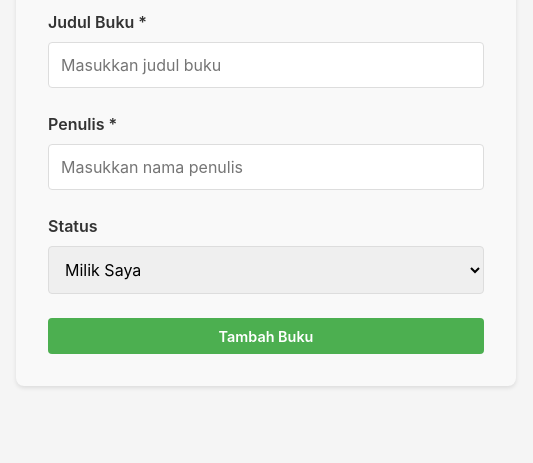
BookForm Component › Clear error message saat user mulai mengetik
The width and height of the screenshot is (533, 463).
Step 1. Click the button "Tambah Buku" → point(266, 336), box [48, 318, 484, 354]
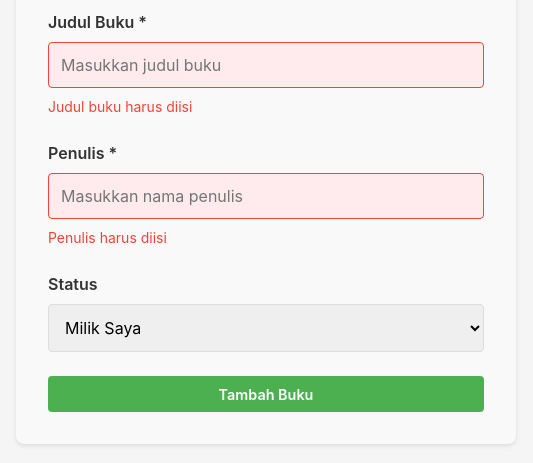
Expected: the text "Judul buku harus diisi" is shown, [48, 98, 192, 115]
Step 2. Type "Test" into the field labelled "Judul Buku *" → point(266, 65), box [48, 42, 484, 88]
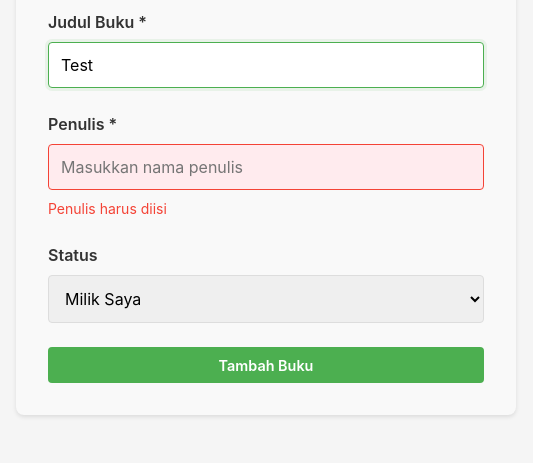
Expected: the text "Judul buku harus diisi" is gone
